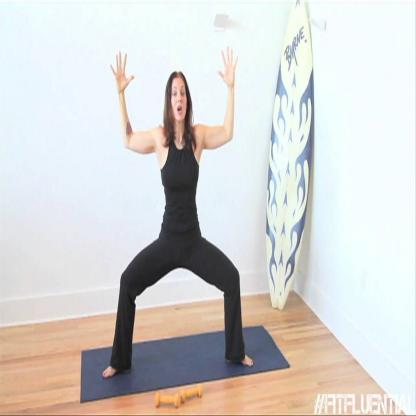godness: (100, 44, 260, 378)
